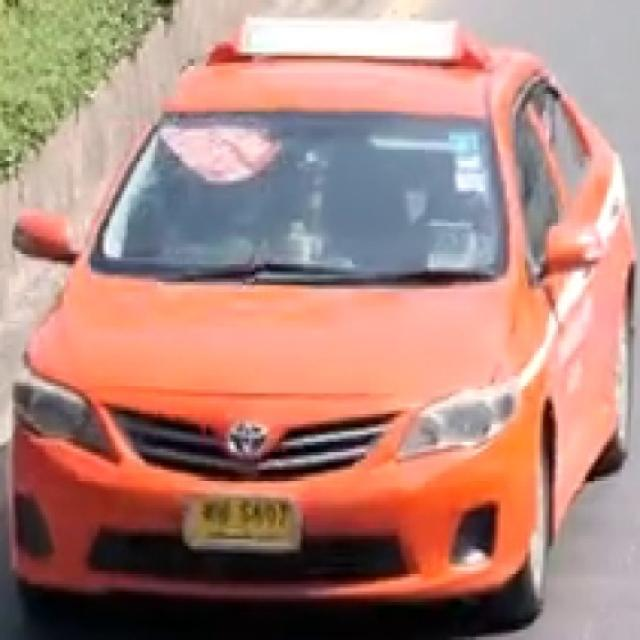plate: (186, 498, 301, 549)
